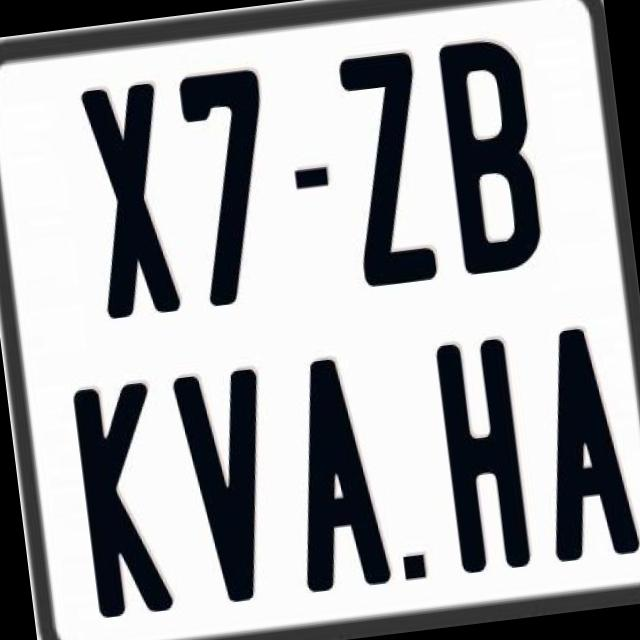7: (175, 67, 289, 315)
A: (527, 321, 640, 565), (276, 352, 390, 590)
B: (433, 31, 549, 280)
H: (434, 336, 534, 580)
K: (68, 380, 174, 618)
V: (170, 367, 285, 612)
X: (80, 77, 186, 314)
Z: (338, 50, 443, 289)
